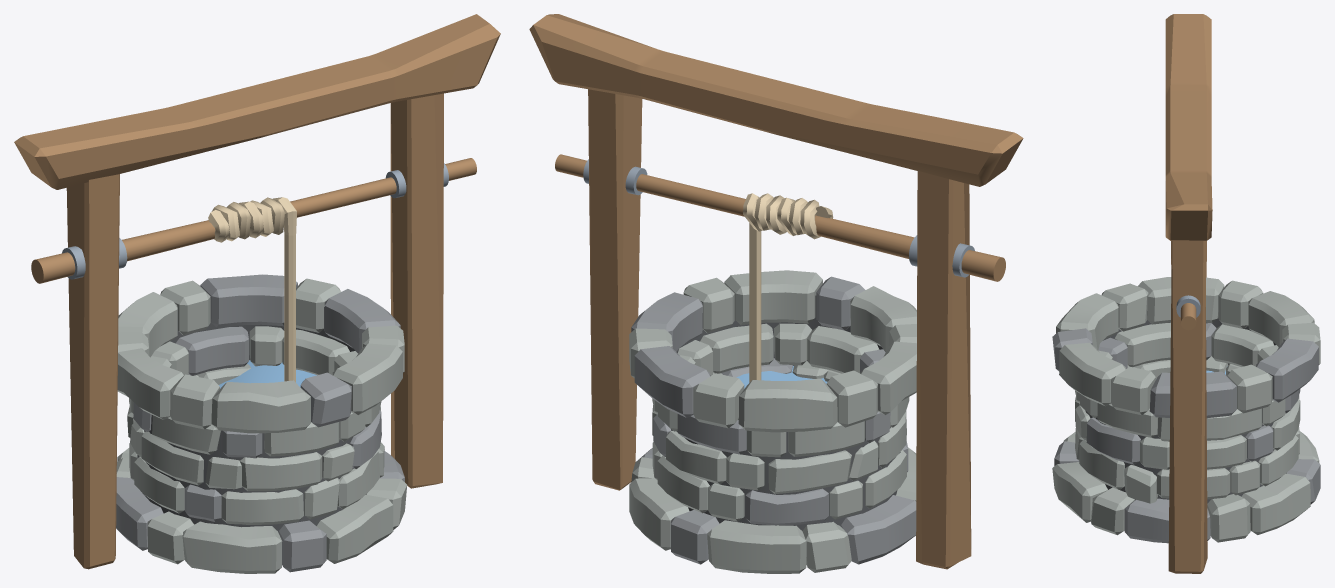
The model's file is Ca_mouille.fbx.
The picture shows the model from 3 angles, left to right: view 1: azimuth 30°, elevation 25°; view 2: azimuth 150°, elevation 25°; view 3: azimuth 270°, elevation 25°; orthographic projection. The views are drawn at different scales.
Parts seen in each view (by area): view 1: Child_n1; view 2: Child_n1; view 3: Child_n1.
Part boxes in pixels (box(x1,y1,x2,y2)): Child_n1: box(14, 14, 500, 573); Child_n1: box(529, 14, 1023, 573); Child_n1: box(1052, 14, 1320, 573).
Bounding box in the file's own units: 15.27 × 13.83 × 8.52.
